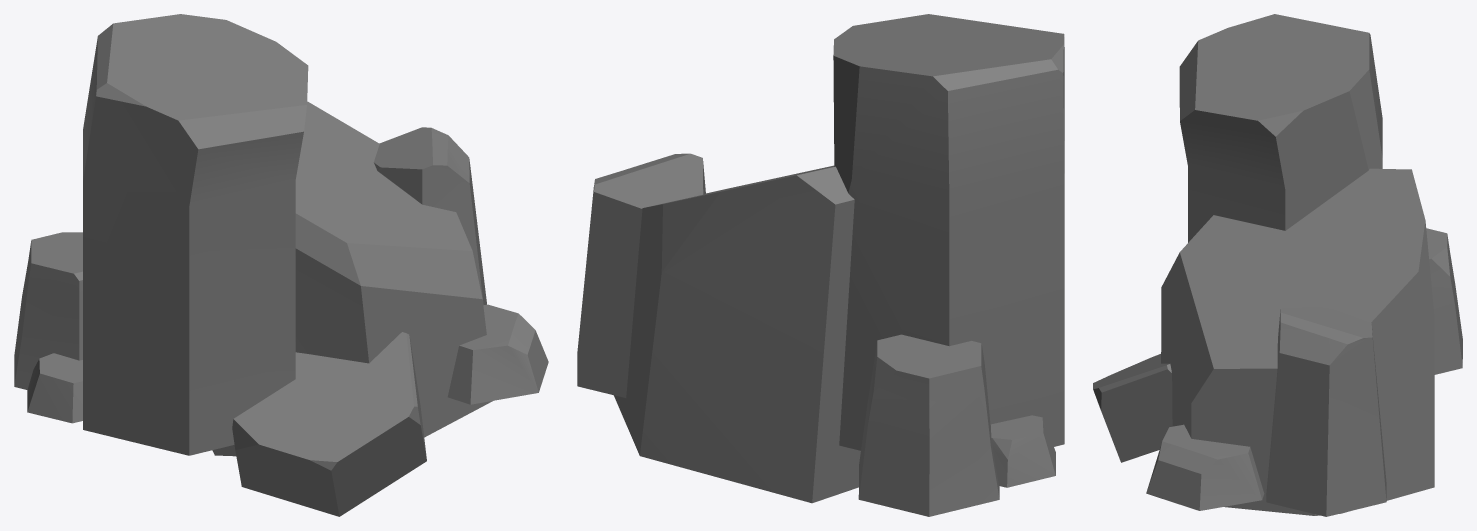
The model's file is rock_formation10.fbx.
The picture shows the model from 3 angles, left to right: view 1: azimuth 30°, elevation 25°; view 2: azimuth 150°, elevation 25°; view 3: azimuth 270°, elevation 25°; orthographic projection. The views are drawn at different scales.
Parts seen in each view (by area): view 1: rock; view 2: rock; view 3: rock.
Boxes of the visible parts, <box> form: rock: <box>14,14,548,516</box>; rock: <box>577,14,1064,516</box>; rock: <box>1093,14,1462,516</box>.
Bounding box in the file's own units: 2302 × 2032 × 1783.
1 material, 1 textured.
